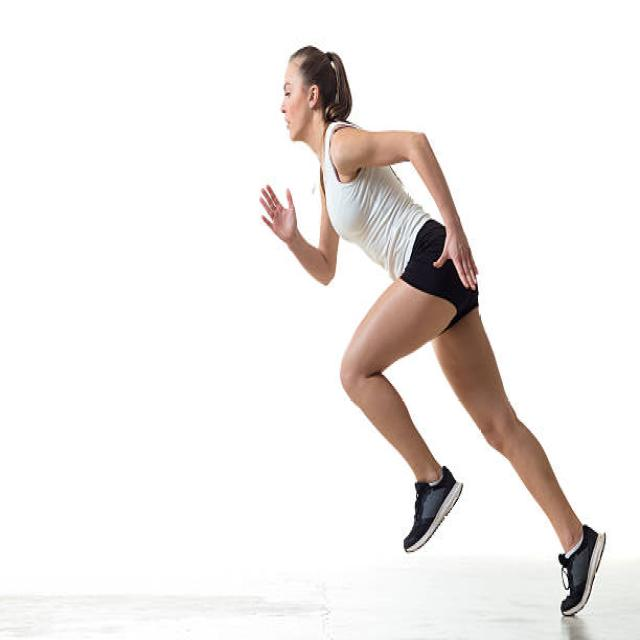Edited images: (238, 33, 609, 630)
